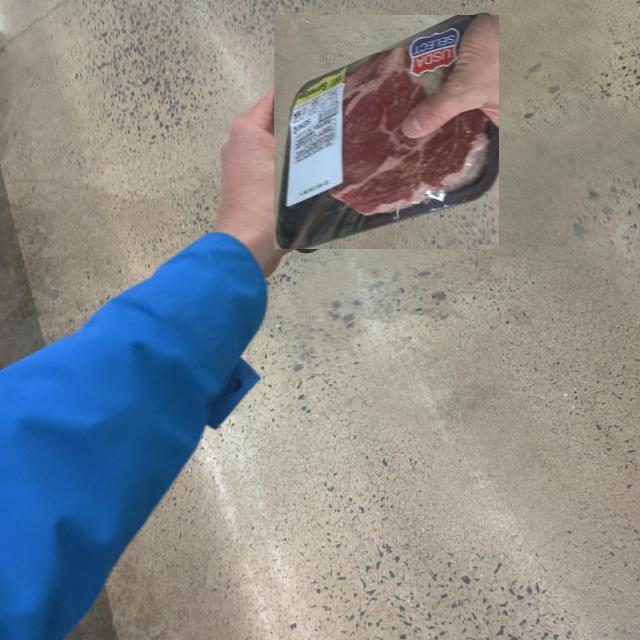Meat: (274, 15, 499, 249)
